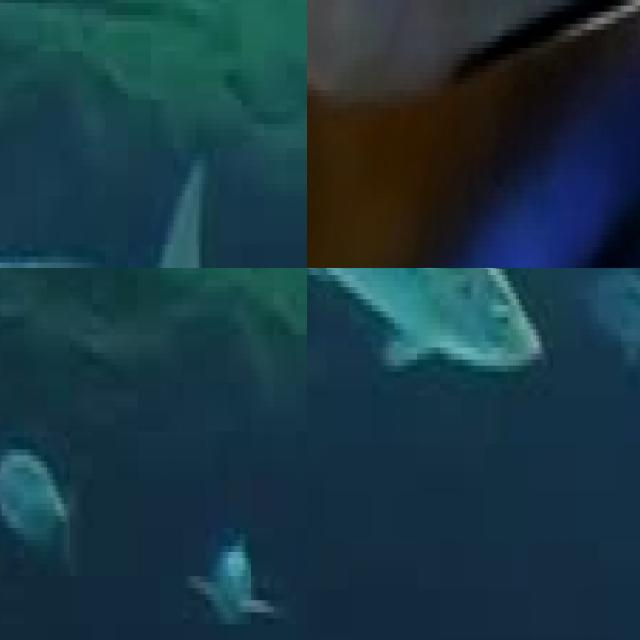fish: (0, 3, 307, 268)
